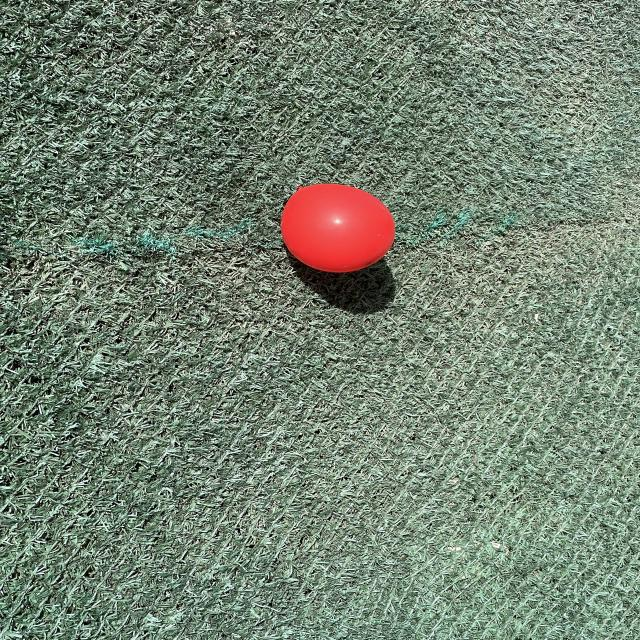balloon: (281, 184, 395, 273)
